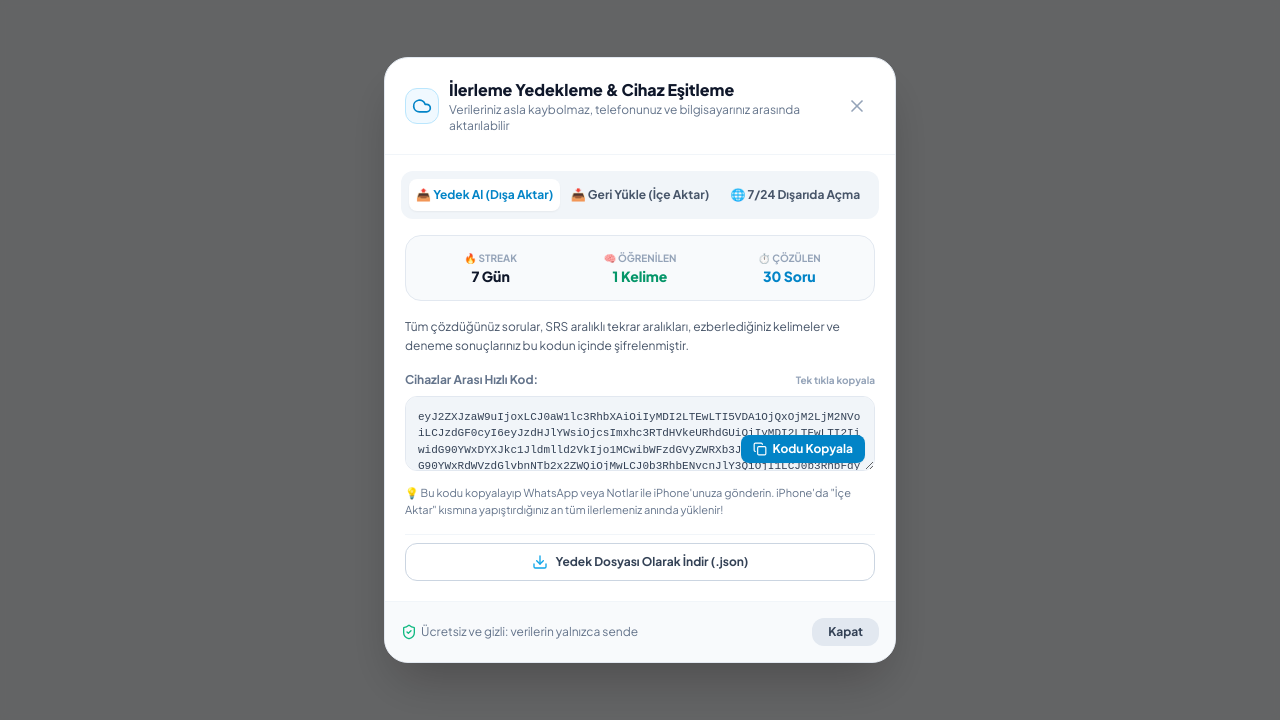
Test case: SyncModal Functional & Button Tests › switches between tabs (Export, Import, Guide)
// Switch to Import Tab
Click the button "📥 Geri Yükle (İçe Aktar)".
click(640, 195)  # box [564,179,716,211]
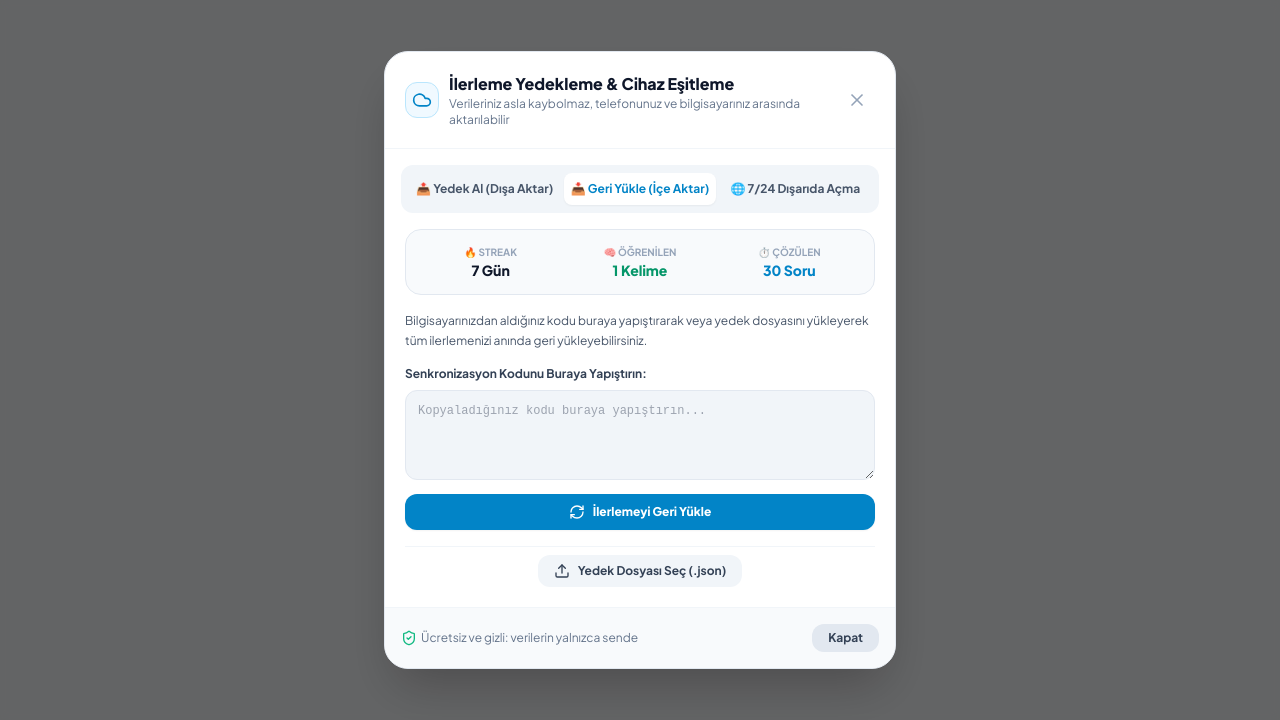
Now the text box with placeholder "Kopyaladığınız kodu buraya yapıştırın..." is shown, box [405,390,875,480]
// Switch to Guide Tab
Click the button "🌐 7/24 Dışarıda Açma".
click(795, 189)  # box [720,173,871,205]
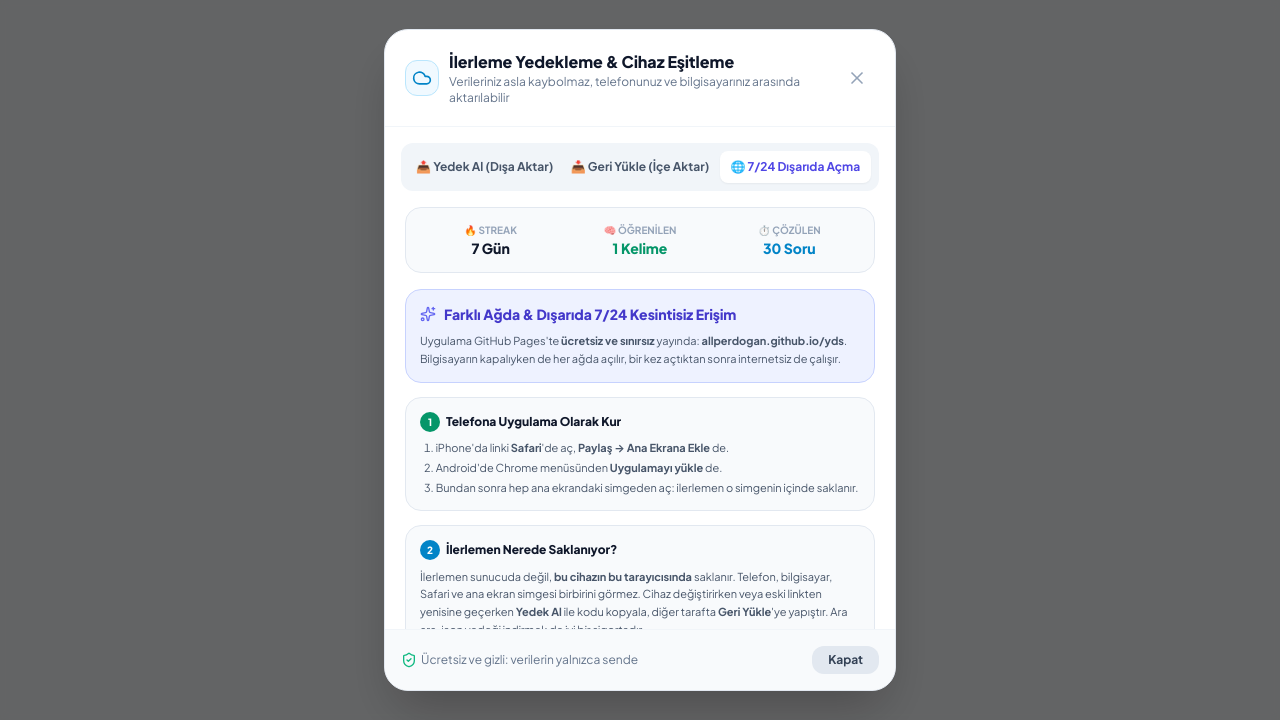
Now the text "Telefona Uygulama Olarak Kur" is shown, box [446,414,621,430]
